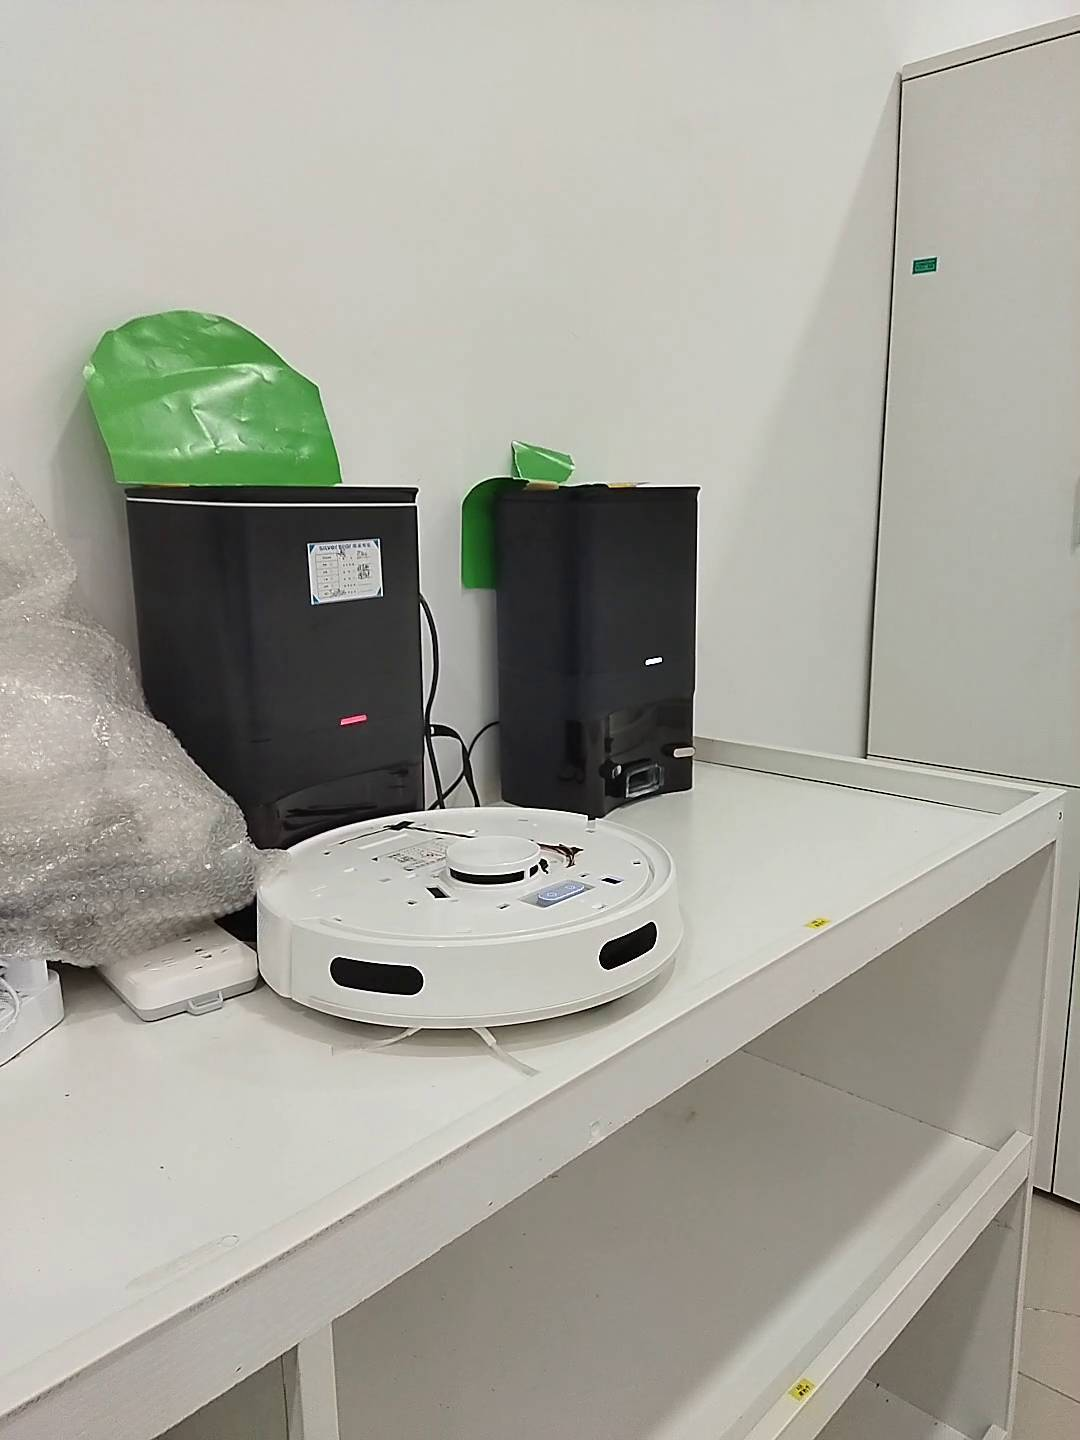dust collecting barrel: (123, 484, 428, 841), (492, 485, 704, 823)
